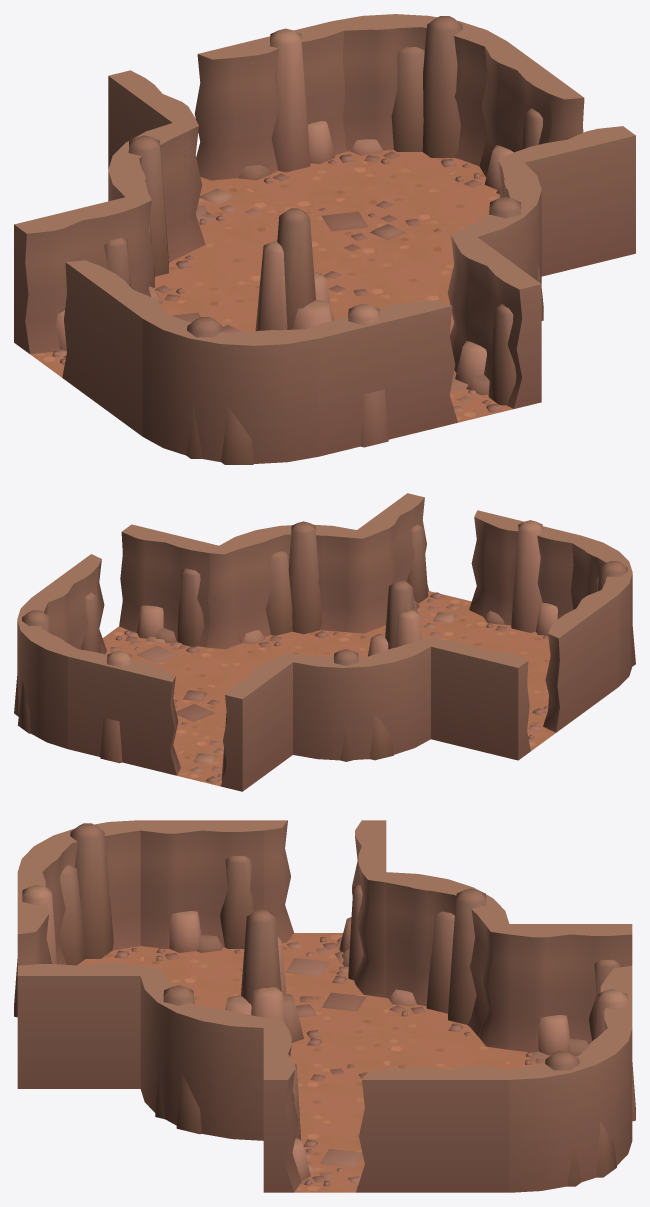
File: kenney-modular-cave-room-large-variation.glb
3 renders of one model, top to bottom at view 1: azimuth 30°, elevation 25°; view 2: azimuth 150°, elevation 25°; view 3: azimuth 270°, elevation 25°, orthographic. The views are drawn at different scales.
Parts seen in each view (by area): view 1: room-large-variation; view 2: room-large-variation; view 3: room-large-variation.
Boxes of the visible parts, x1,y1,x2,y2 form: room-large-variation: (14,14,635,464); room-large-variation: (14,493,635,791); room-large-variation: (14,820,635,1192).
Size of the model in its own units: 20 by 4.4 by 20.23.
Materials: 1 (1 with a texture image).
